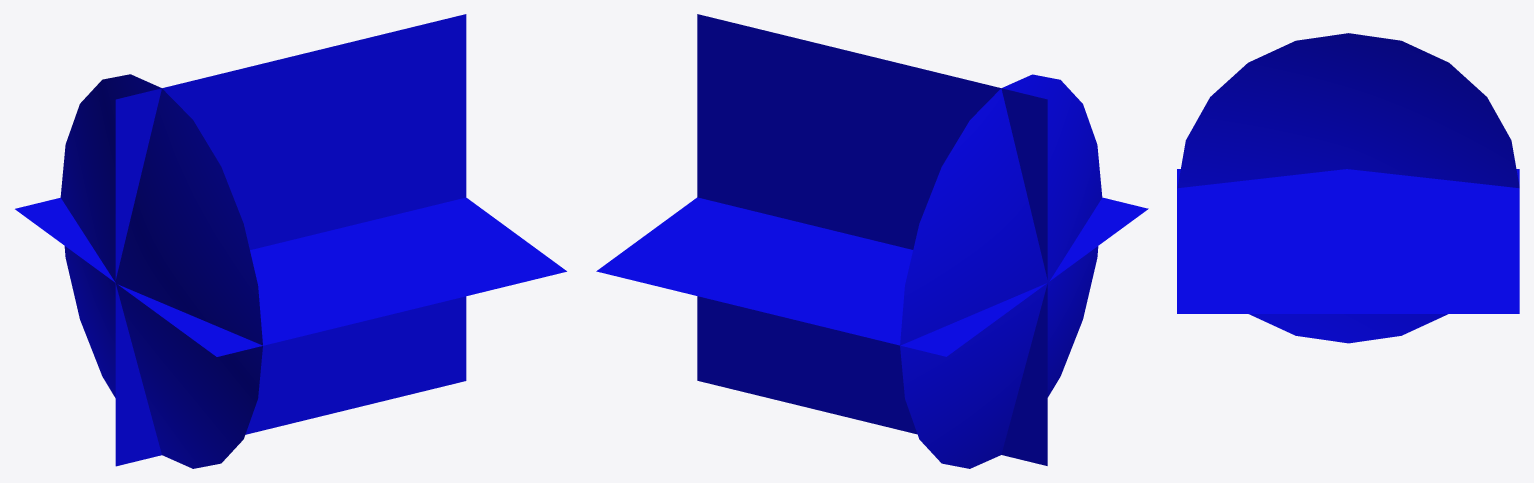
File: Flash.fbx
3 views of the same model, side by side, from view 1: azimuth 30°, elevation 25°; view 2: azimuth 150°, elevation 25°; view 3: azimuth 270°, elevation 25° (orthographic). The views are drawn at different scales.
Visible parts, largest first — view 1: FlashPlane3, FlashCone; view 2: FlashPlane3, FlashCone; view 3: FlashPlane3, FlashCone.
Boxes of the visible parts, left/top/right/bottom form: FlashPlane3: left=15, top=14, right=566, bottom=466; FlashCone: left=60, top=74, right=262, bottom=468; FlashPlane3: left=596, top=14, right=1148, bottom=465; FlashCone: left=900, top=74, right=1102, bottom=468; FlashPlane3: left=1177, top=169, right=1519, bottom=313; FlashCone: left=1177, top=33, right=1519, bottom=343.
Size of the model in its own units: 100 by 100 by 100.
